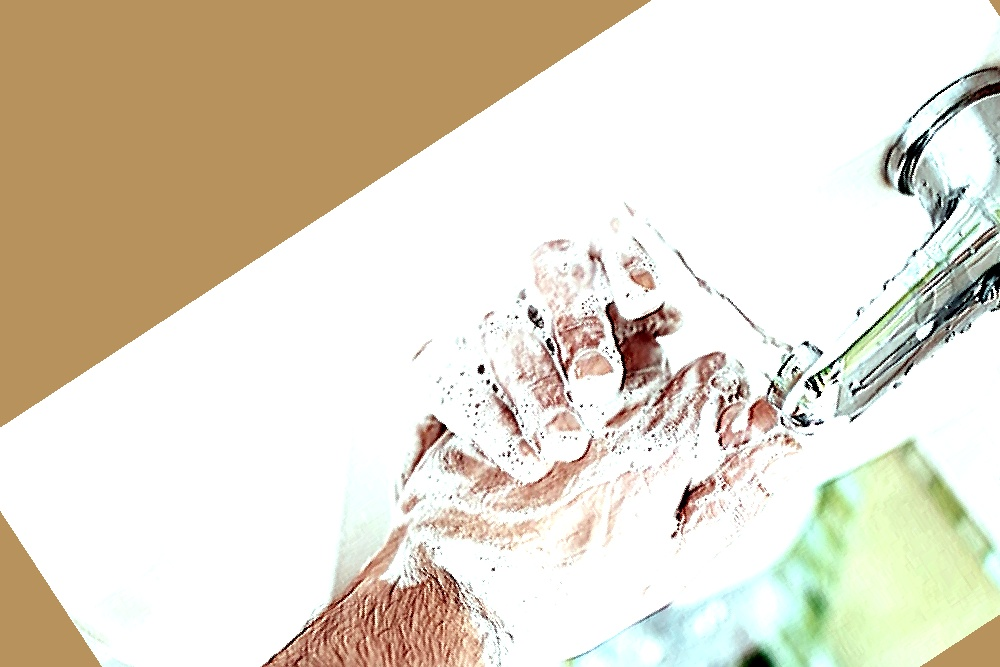washing hand: (277, 0, 999, 666)
